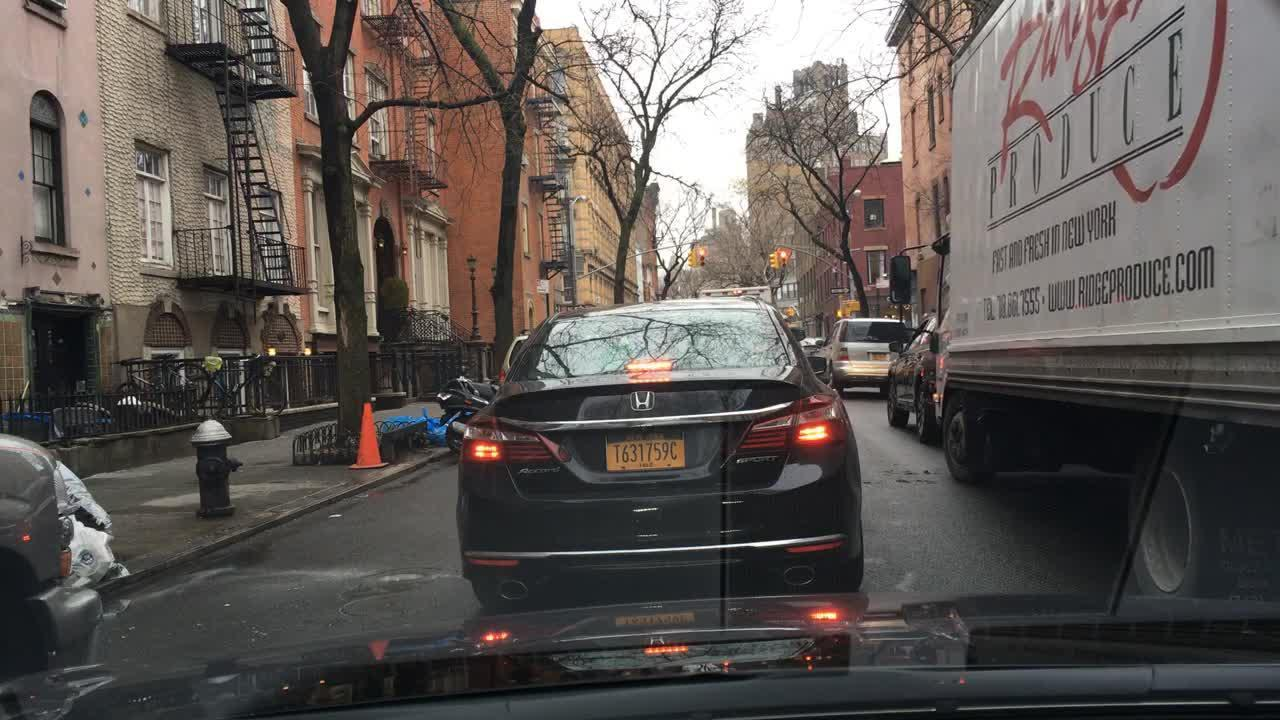Honda: (625, 384, 665, 423)
